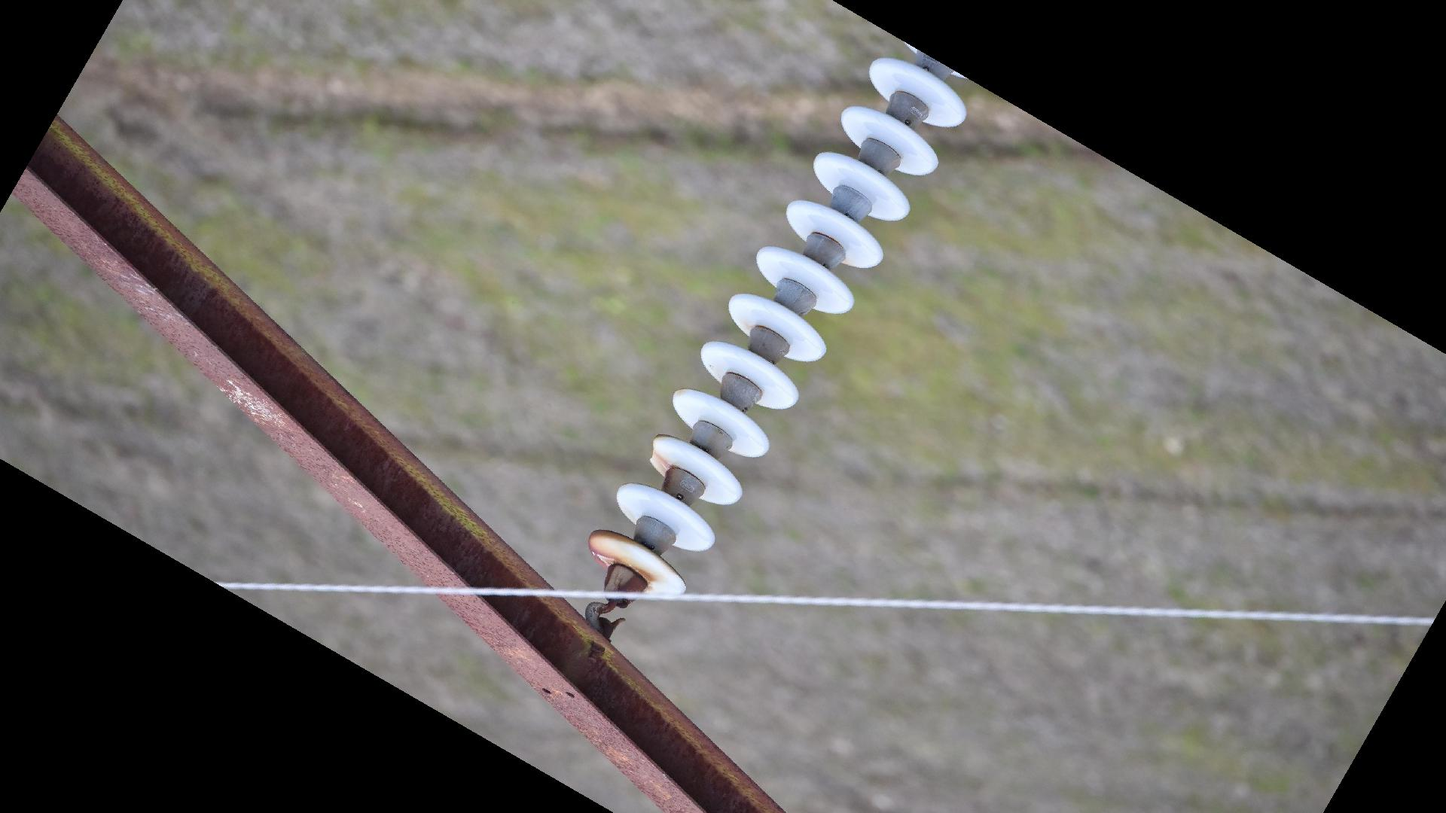insulator: (581, 47, 976, 606)
insulator_breakage: (642, 430, 669, 468)
